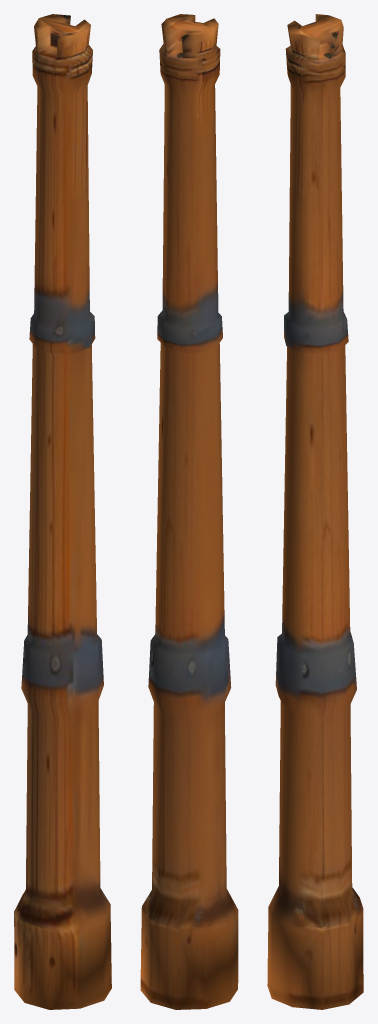
Rendered from mainmast.glb.
3 views of the same model, side by side, from view 1: azimuth 30°, elevation 25°; view 2: azimuth 210°, elevation 25°; view 3: azimuth 270°, elevation 25° (orthographic).
Visible parts, largest first — view 1: mainmast; view 2: mainmast; view 3: mainmast.
Part boxes in pixels (<box>): mainmast: <box>14,14,111,1009</box>; mainmast: <box>140,14,238,1009</box>; mainmast: <box>267,14,363,1009</box>.
Size of the model in its own units: 0.5 by 5.5 by 0.4962.
Materials: 1 (1 with a texture image).
